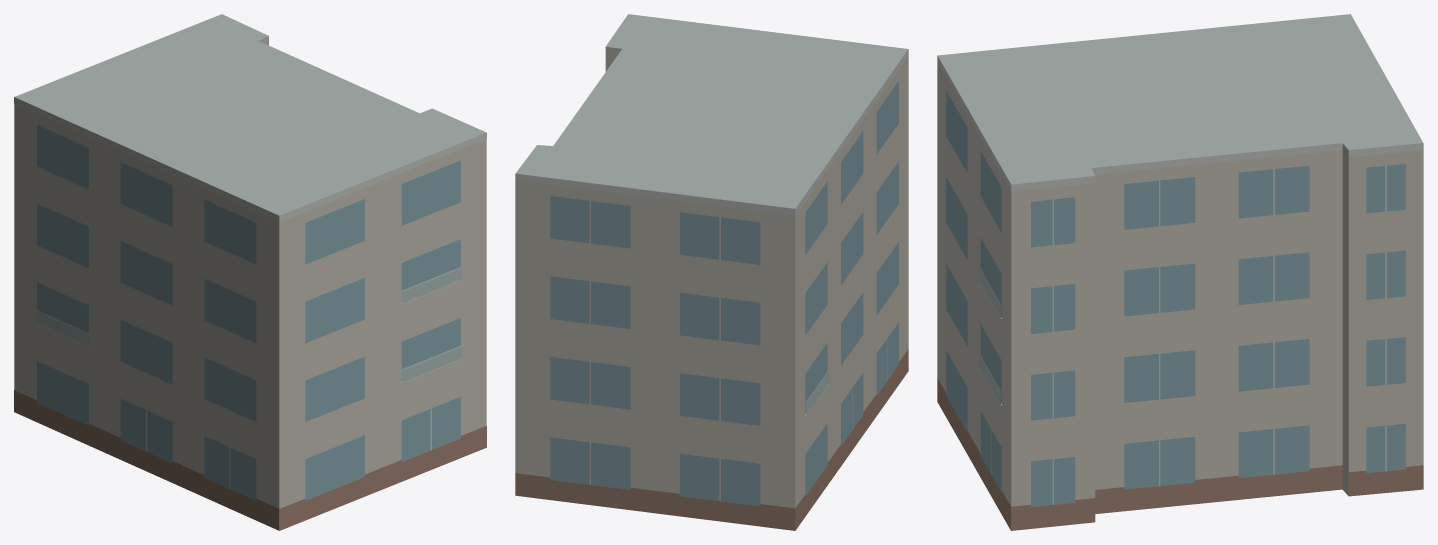
The model's file is survey-upis-32598020.glb.
The picture shows the model from 3 angles, left to right: view 1: azimuth 30°, elevation 25°; view 2: azimuth 150°, elevation 25°; view 3: azimuth 270°, elevation 25°; orthographic projection. The views are drawn at different scales.
Parts seen in each view (by area): view 1: survey-upis-32598020.tmp; view 2: survey-upis-32598020.tmp; view 3: survey-upis-32598020.tmp.
Boxes of the visible parts, x1,y1,x2,y2 form: survey-upis-32598020.tmp: (14, 14, 486, 530); survey-upis-32598020.tmp: (515, 14, 908, 530); survey-upis-32598020.tmp: (937, 14, 1423, 530).
Bounding box in the file's own units: 12.37 × 11.7 × 14.89.
